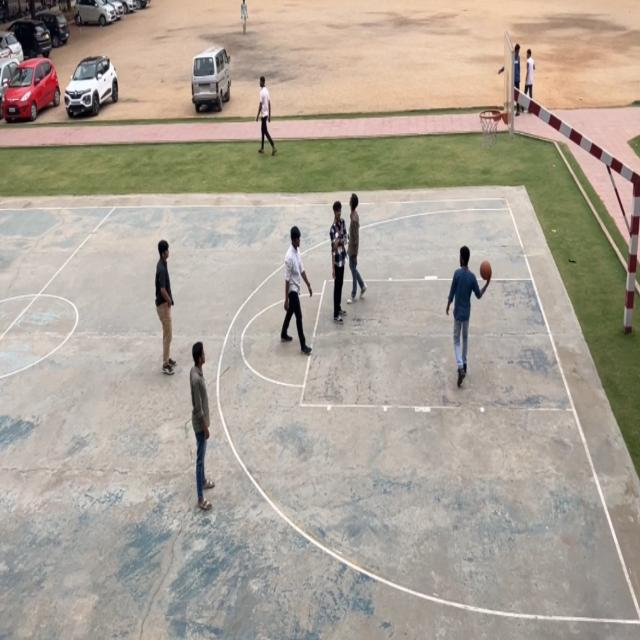basketball: (478, 256, 494, 287)
hoop: (478, 106, 501, 152)
